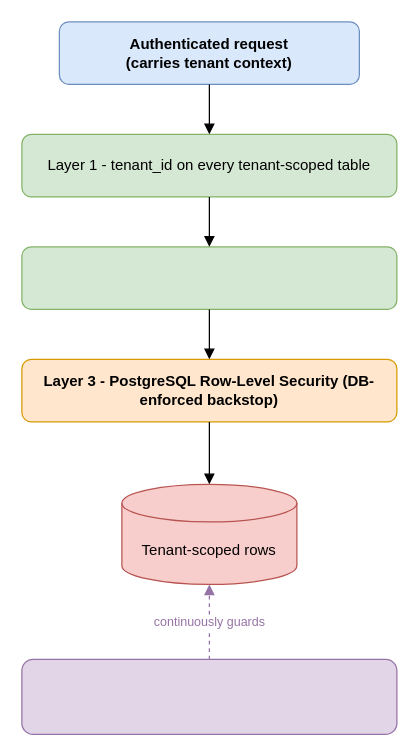
Image size: 419x756. Some labels were removed from this diagram. The shapes that lost their labels are listed below. From the top down, each one's centre as x and y in pixels, then its label:
At pixel 209 277: "Layer 2 - Hibernate @Filter auto-applies the tenant predicate".
At pixel 209 696: "Layer 4 - CI cross-tenant isolation tests (tenant A must NOT read tenant B)".
